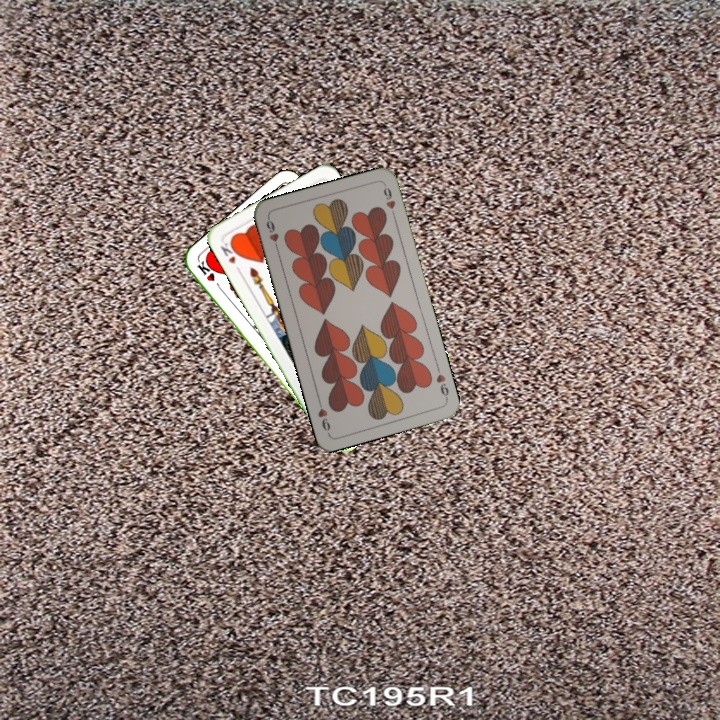H9: (262, 214, 281, 254), (432, 370, 451, 402)
HK: (193, 257, 225, 293), (216, 237, 242, 267)
